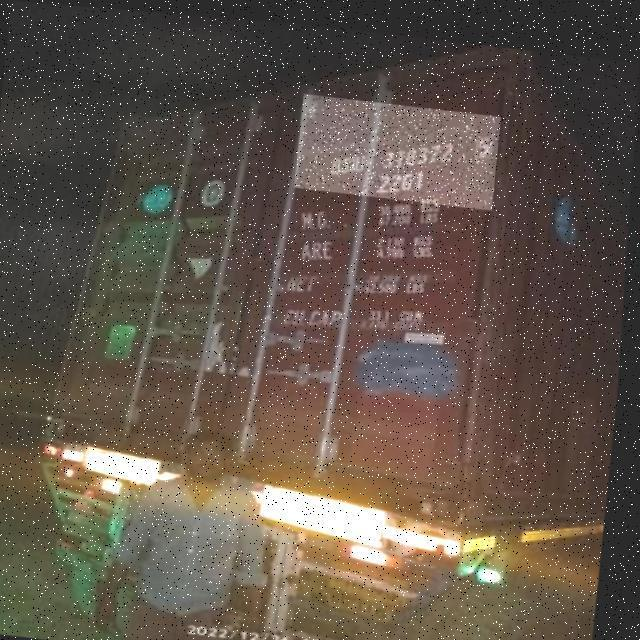container_number_h: (295, 89, 502, 204)
